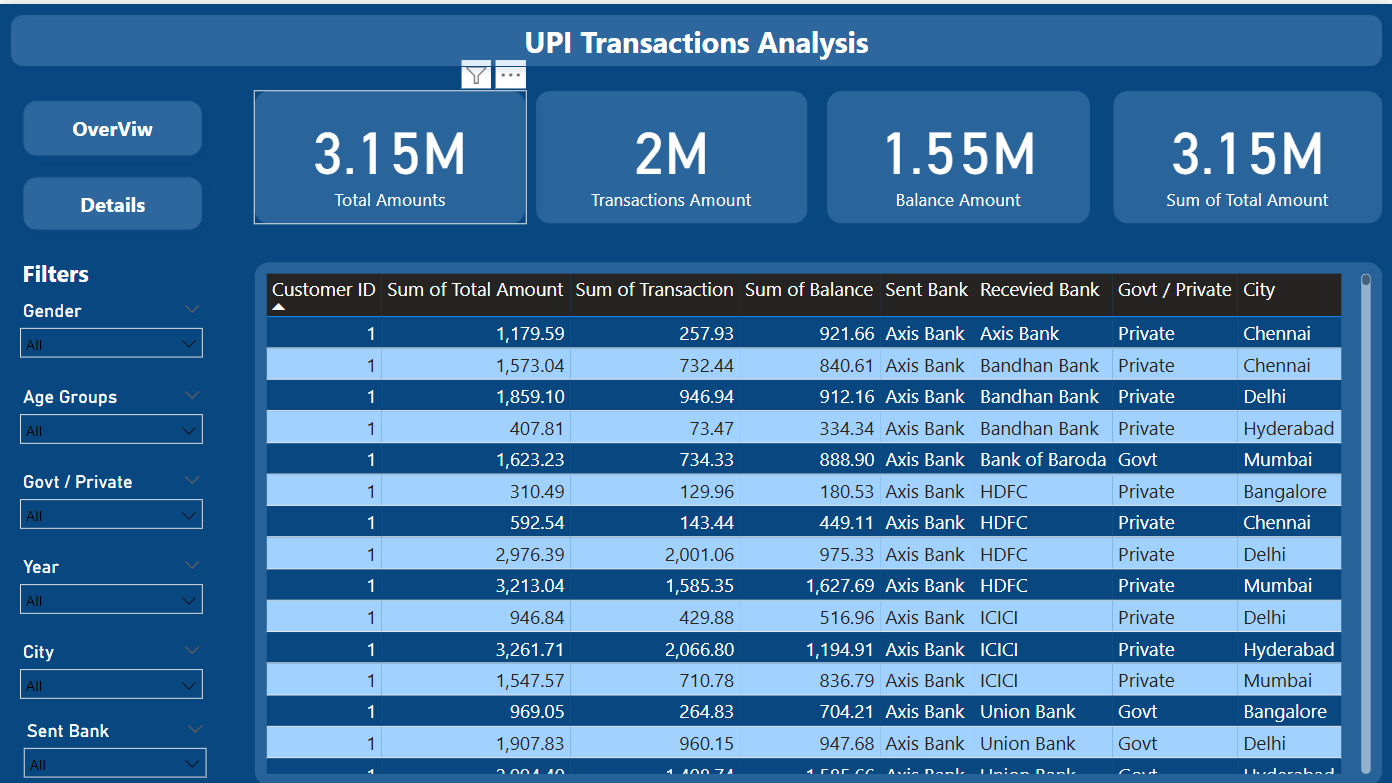

This screenshot's page, from the dashboard's own definition file:
{"tool":"powerbi","page":{"name":"Details","canvas":[1280,720],"ordinal":1},"visuals":[{"type":"card","fields":{"Values":["Measures (3).Total Transactions"]},"box":[491.9,79.1,251.2,123.3],"z":0},{"type":"card","fields":{"Values":["Measures (3).Total Balance"]},"box":[759.3,79.1,243,123.3],"z":1000},{"type":"card","fields":{"Values":["Sum(UPI Data.Total Amount)"]},"box":[1023.3,79.1,248.8,123.3],"z":2000},{"type":"card","fields":{"Values":["Measures (3).Total Amounts"]},"box":[233.7,79.1,250,123.3],"z":3000},{"type":"shape","box":[0,0,1280.8,67],"z":4000},{"type":"tableEx","fields":{"Values":["UPI Data.Customer ID","Sum(UPI Data.Total Amount)","Sum(UPI Data.Transaction)","Sum(UPI Data.Balance)","UPI Data.Sent Bank","UPI Data.Recevied Bank","UPI Data.Govt / Private","UPI Data.City"]},"box":[233.7,237.2,1038.4,482.6],"z":5000},{"type":"slicer","fields":{"Values":["UPI Data.Date (dd/mm/yyyy).Variation.Date Hierarchy.Year"]},"box":[7.8,502,188.4,67.4],"z":6000},{"type":"slicer","fields":{"Values":["UPI Data.Gender"]},"box":[7.8,267.2,188.4,67.4],"z":7000},{"type":"slicer","fields":{"Values":["UPI Data.Govt / Private"]},"box":[7.8,424.1,188.4,67.4],"z":8000},{"type":"slicer","fields":{"Values":["UPI Data.City"]},"box":[7.8,580,188.4,67.4],"z":9000},{"type":"slicer","fields":{"Values":["UPI Data.Age Groups"]},"box":[7.8,346.2,188.4,68.6],"z":10000},{"type":"shape","title":"Filter","box":[7.8,228,86,39],"z":11000},{"type":"shape","box":[11,79,184,70],"z":12000},{"type":"shape","box":[11,149,184,68],"z":13000},{"type":"slicer","fields":{"Values":["UPI Data.Sent Bank"]},"box":[11,653,188,67],"z":14000}]}

Visuals, with their boxes in screenshot pixels (x1, y1, x2, y2), scaled from the page's 1280x720 canvas onto the 1392x783 screenshot:
card - Measures (3).Total Transactions: (left=535, top=86, right=808, bottom=220)
card - Measures (3).Total Balance: (left=826, top=86, right=1090, bottom=220)
card - Sum(UPI Data.Total Amount): (left=1113, top=86, right=1383, bottom=220)
card - Measures (3).Total Amounts: (left=254, top=86, right=526, bottom=220)
shape: (left=0, top=0, right=1391, bottom=73)
tableEx - UPI Data.Customer ID x Sum(UPI Data.Total Amount): (left=254, top=258, right=1383, bottom=782)
slicer - UPI Data.Date (dd/mm/yyyy).Variation.Date Hierarchy.Year: (left=8, top=546, right=213, bottom=619)
slicer - UPI Data.Gender: (left=8, top=291, right=213, bottom=364)
slicer - UPI Data.Govt / Private: (left=8, top=461, right=213, bottom=535)
slicer - UPI Data.City: (left=8, top=631, right=213, bottom=704)
slicer - UPI Data.Age Groups: (left=8, top=376, right=213, bottom=451)
"Filter" shape: (left=8, top=248, right=102, bottom=290)
shape: (left=12, top=86, right=212, bottom=162)
shape: (left=12, top=162, right=212, bottom=236)
slicer - UPI Data.Sent Bank: (left=12, top=710, right=216, bottom=782)
